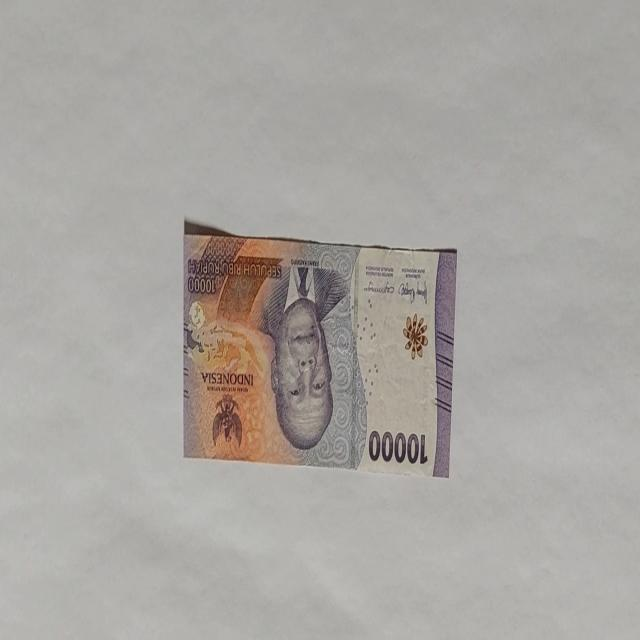sepuluh ribu rupiah: (182, 220, 458, 478), (260, 262, 348, 454)
